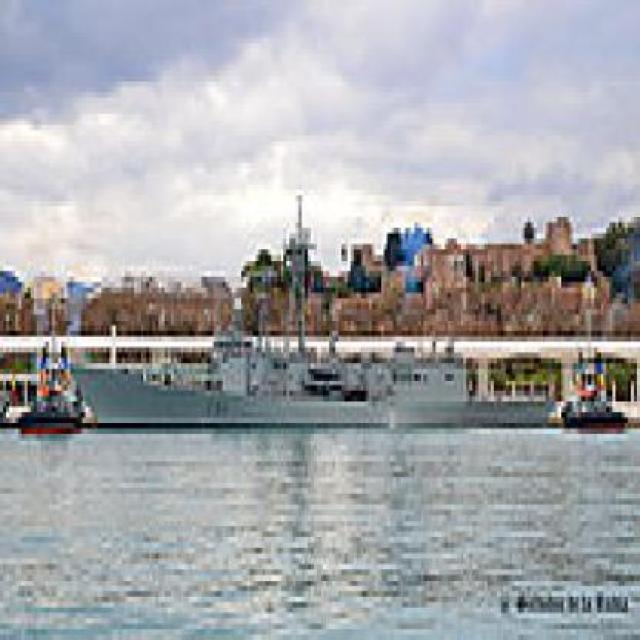warship2: (65, 218, 556, 435)
